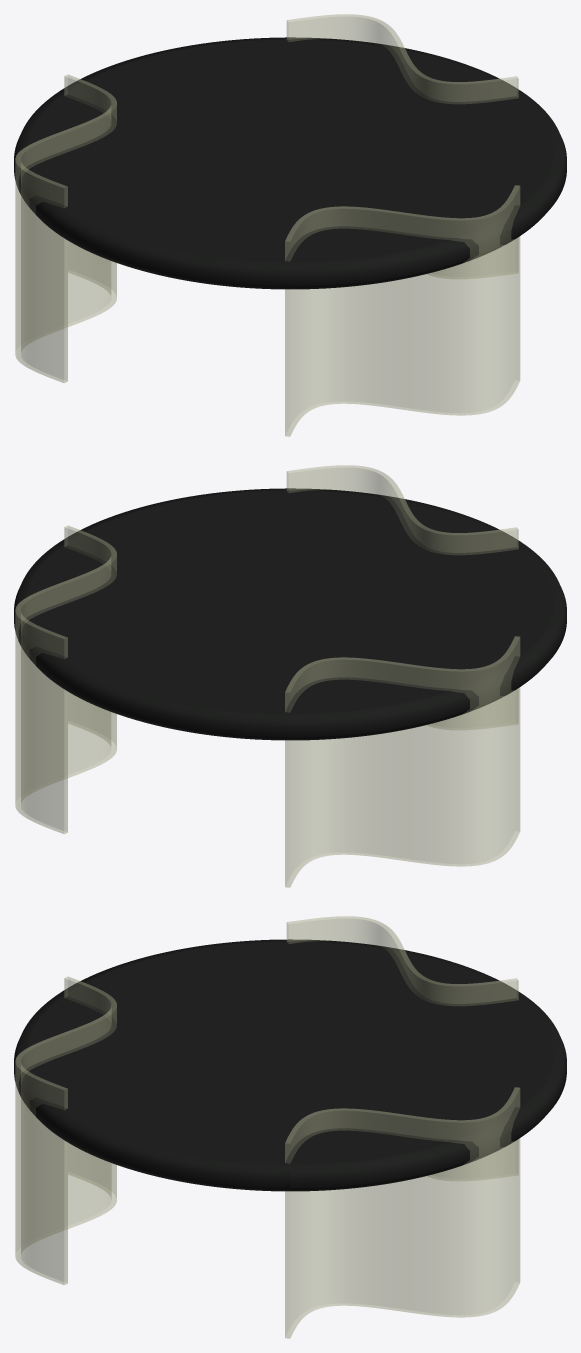
File: O50_coffee_reference.glb
The picture shows the model from 3 angles, top to bottom: view 1: azimuth 30°, elevation 25°; view 2: azimuth 150°, elevation 25°; view 3: azimuth 270°, elevation 25°; orthographic projection.
Visible parts, largest first — view 1: Rounded black circular top, Three closed rippled amber glass folds; view 2: Rounded black circular top, Three closed rippled amber glass folds; view 3: Rounded black circular top, Three closed rippled amber glass folds.
Boxes of the visible parts, x1,y1,x2,y2 form: Rounded black circular top: [14, 37, 566, 289]; Three closed rippled amber glass folds: [15, 14, 520, 436]; Rounded black circular top: [14, 488, 566, 740]; Three closed rippled amber glass folds: [15, 465, 520, 887]; Rounded black circular top: [14, 939, 566, 1191]; Three closed rippled amber glass folds: [15, 916, 520, 1338].
Bounding box in the file's own units: 1.21 × 0.47 × 1.21.
